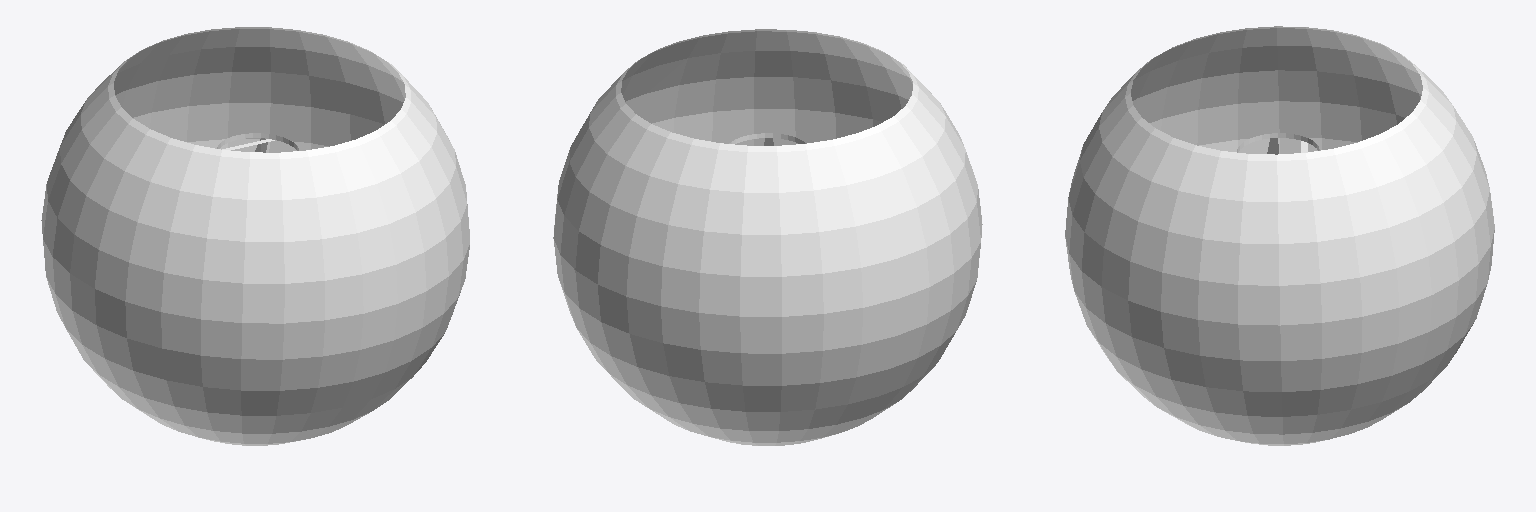
3 views of the same model, side by side, from view 1: azimuth 30°, elevation 25°; view 2: azimuth 150°, elevation 25°; view 3: azimuth 270°, elevation 25° (orthographic).
Parts seen in each view (by area): view 1: Occhio_Divo_Lamp_Sphere.001; view 2: Occhio_Divo_Lamp_Sphere.001; view 3: Occhio_Divo_Lamp_Sphere.001.
Part boxes in pixels (bbox=[...]): Occhio_Divo_Lamp_Sphere.001: bbox=[41, 27, 469, 445]; Occhio_Divo_Lamp_Sphere.001: bbox=[553, 29, 982, 445]; Occhio_Divo_Lamp_Sphere.001: bbox=[1065, 26, 1494, 445].
Bounding box in the file's own units: 7.89 × 6.89 × 7.89.
1 materials, 1 textured.